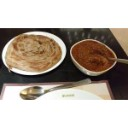parota: (6, 34, 62, 70)
